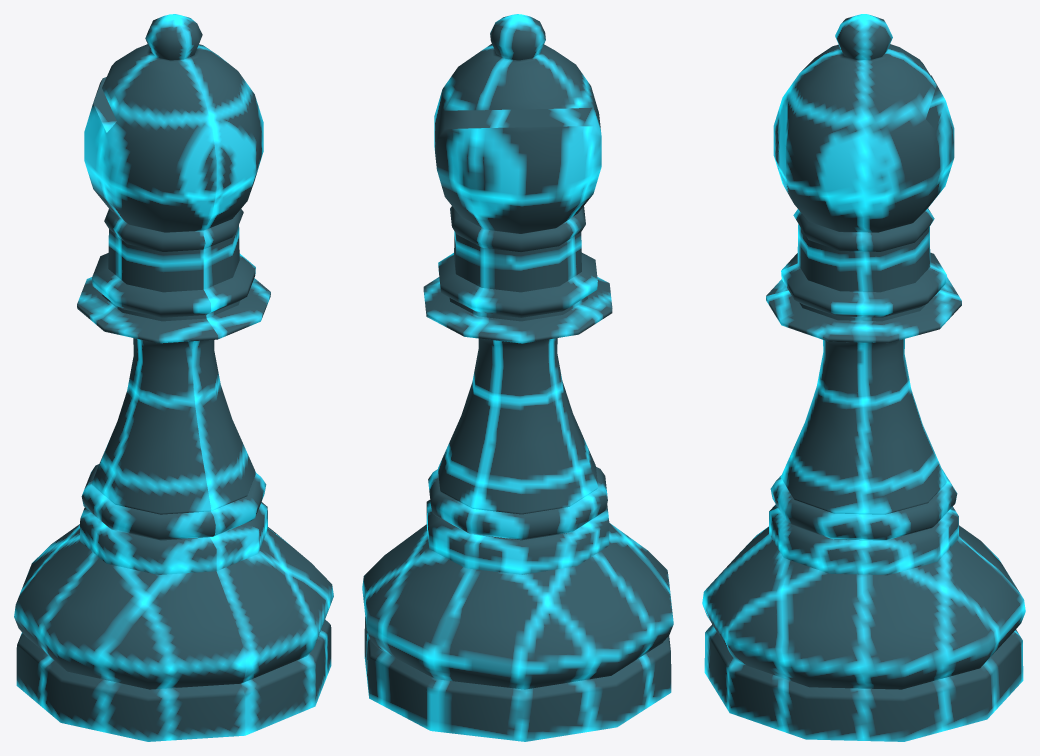
The model's file is item-2-12.glb.
3 renders of one model, left to right at view 1: azimuth 30°, elevation 25°; view 2: azimuth 150°, elevation 25°; view 3: azimuth 270°, elevation 25°, orthographic.
Visible parts, largest first — view 1: BlackBishop; view 2: BlackBishop; view 3: BlackBishop.
Boxes of the visible parts, <box> form: BlackBishop: <box>14,14,333,741</box>; BlackBishop: <box>362,14,673,741</box>; BlackBishop: <box>702,14,1025,741</box>.
Bounding box in the file's own units: 0.0928 × 0.2155 × 0.0958.
